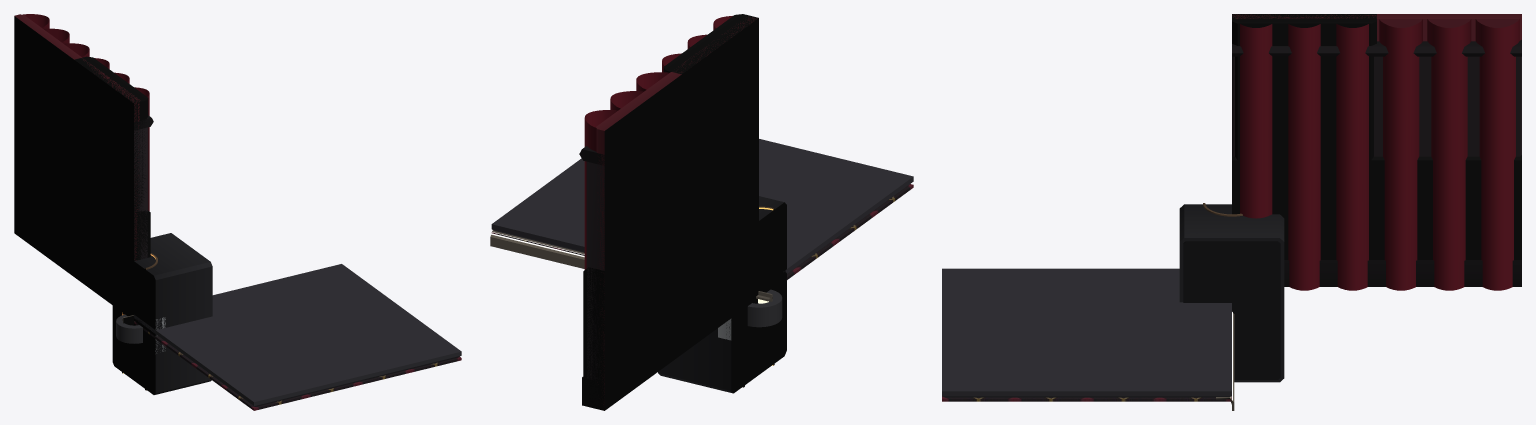
Rendered from room-standard.glb.
3 renders of one model, left to right at view 1: azimuth 30°, elevation 25°; view 2: azimuth 150°, elevation 25°; view 3: azimuth 270°, elevation 25°, orthographic. The views are drawn at different scales.
Parts seen in each view (by area): view 1: CeilingPanel, WallBase, WallPanel, ScreenBorderH, Speaker, ScreenBorderV, Carpet, Curtain, Downlight; view 2: ScreenBorderH, WallPanel, ScreenBorderV, WallBase, CeilingPanel, Speaker, Curtain, StepNosing, Carpet, Downlight, ExitSign; view 3: Curtain, CeilingPanel, Speaker, ScreenBorderV, ScreenBorderH, WallBase, WallPanel, Carpet.
Part boxes in pixels (x1,y1,x2,y2): CeilingPanel: (134, 264, 461, 406); WallBase: (14, 34, 153, 315); WallPanel: (14, 14, 140, 315); ScreenBorderH: (14, 125, 150, 316); Speaker: (112, 233, 212, 394); ScreenBorderV: (74, 56, 148, 313); Carpet: (134, 321, 461, 410); Curtain: (23, 14, 149, 211); Downlight: (116, 314, 142, 343); ScreenBorderH: (583, 158, 758, 410); WallPanel: (596, 17, 758, 410); ScreenBorderV: (663, 14, 758, 353); WallBase: (579, 43, 758, 410); CeilingPanel: (491, 139, 913, 273); Speaker: (658, 196, 786, 393); Curtain: (584, 16, 732, 269); StepNosing: (490, 230, 584, 268); Carpet: (491, 184, 913, 280); Downlight: (747, 289, 782, 327); ExitSign: (718, 255, 786, 340); Curtain: (1240, 19, 1519, 290); CeilingPanel: (942, 268, 1231, 397); Speaker: (1179, 204, 1284, 382); ScreenBorderV: (1232, 14, 1376, 259); ScreenBorderH: (1232, 155, 1521, 260); WallBase: (1232, 40, 1521, 286); WallPanel: (1232, 14, 1521, 41); Carpet: (942, 396, 1231, 401).
Bounding box in the file's own units: 1.08 × 1.28 × 2.
20 materials, 1 textured.
